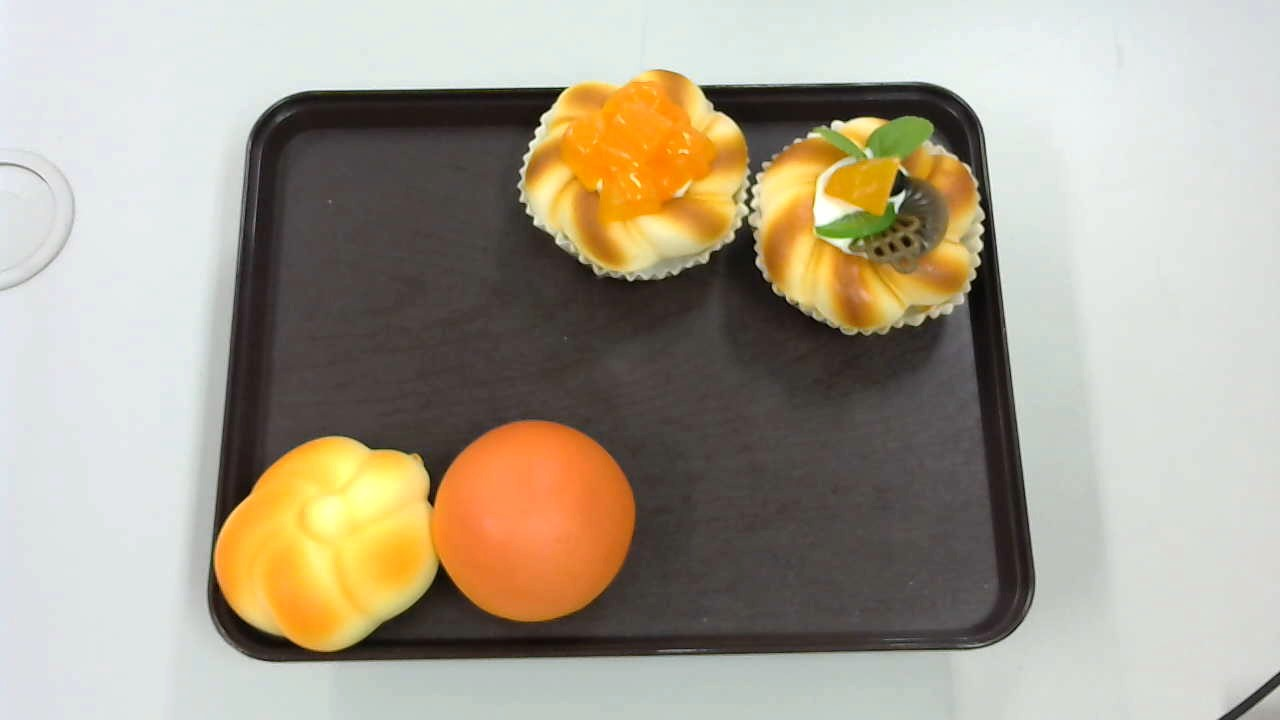bun: (432, 418, 637, 623)
fruit tart: (750, 115, 985, 336)
mango tart: (517, 70, 750, 283)
twist bread: (211, 435, 438, 652)
